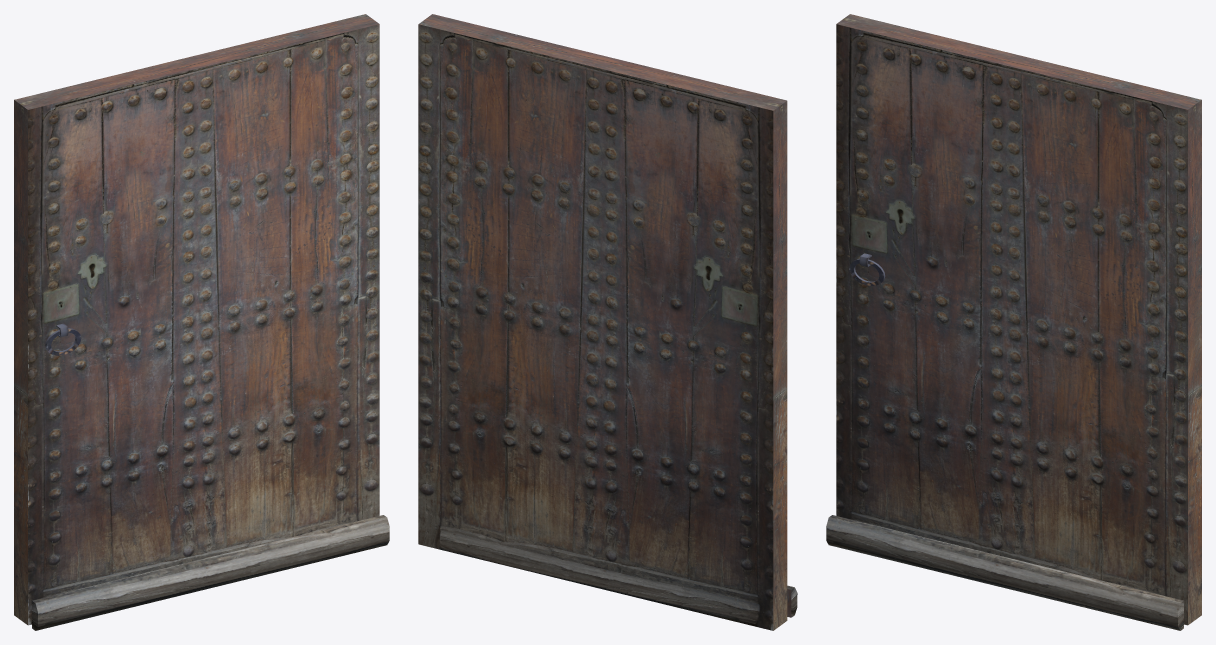
Rendered from Door_F.fbx.
3 views of the same model, side by side, from view 1: azimuth 30°, elevation 25°; view 2: azimuth 150°, elevation 25°; view 3: azimuth 330°, elevation 25° (orthographic).
Parts seen in each view (by area): view 1: Door_F; view 2: Door_F; view 3: Door_F.
Boxes of the visible parts, x1,y1,x2,y2 form: Door_F: (14,14,389,630); Door_F: (418,14,797,630); Door_F: (826,14,1201,630).
Size of the model in its own units: 3.86 by 5.41 by 0.4549.
1 material, 1 textured.
